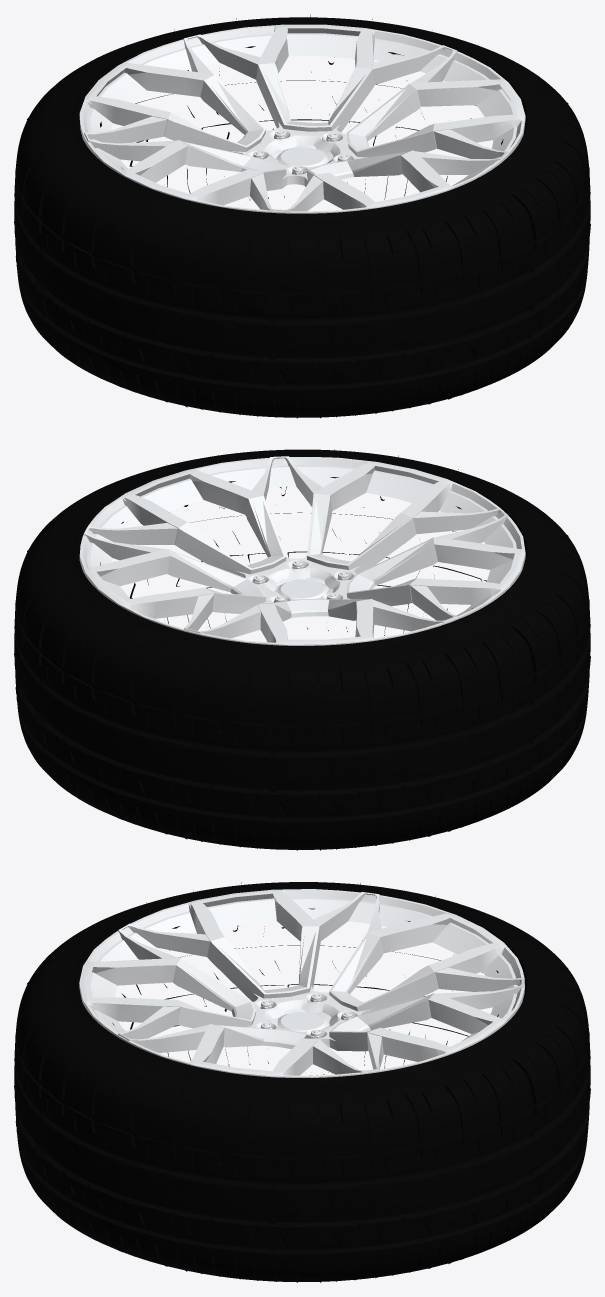
The model's file is TireV2.glb.
The picture shows the model from 3 angles, top to bottom: view 1: azimuth 30°, elevation 25°; view 2: azimuth 150°, elevation 25°; view 3: azimuth 270°, elevation 25°; orthographic projection.
Size of the model in its own units: 0.000699 by 0.000269 by 0.000698.
Materials: 2 (1 with a texture image).
